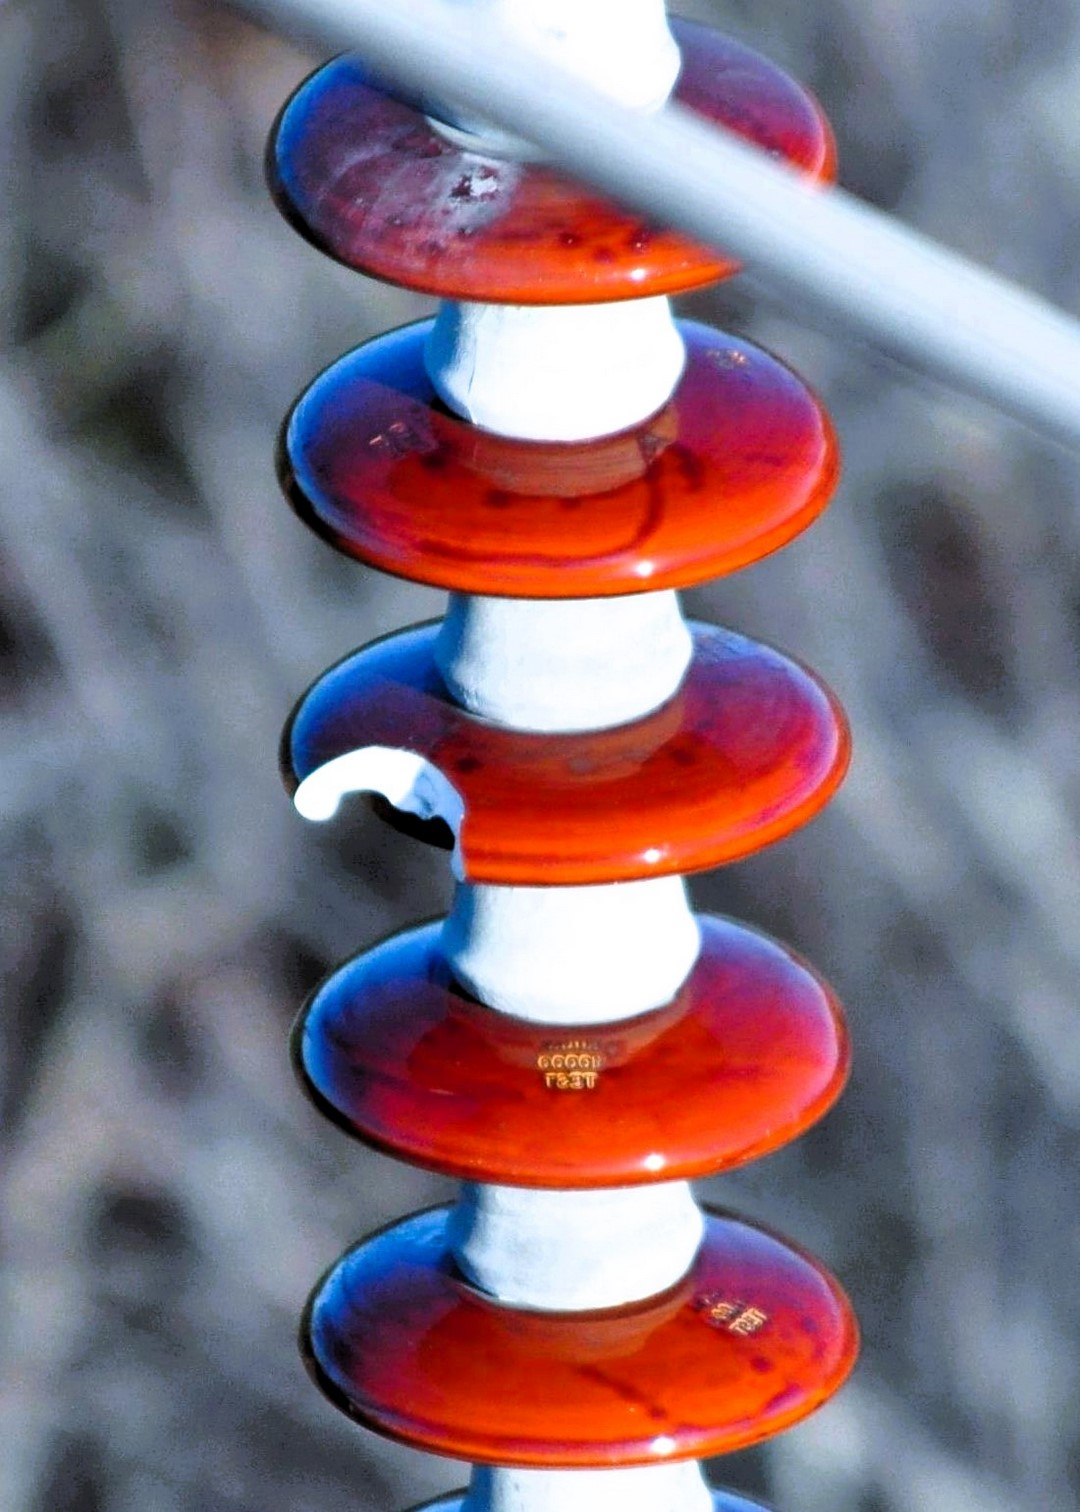insulator breakage: (261, 599, 868, 894)
